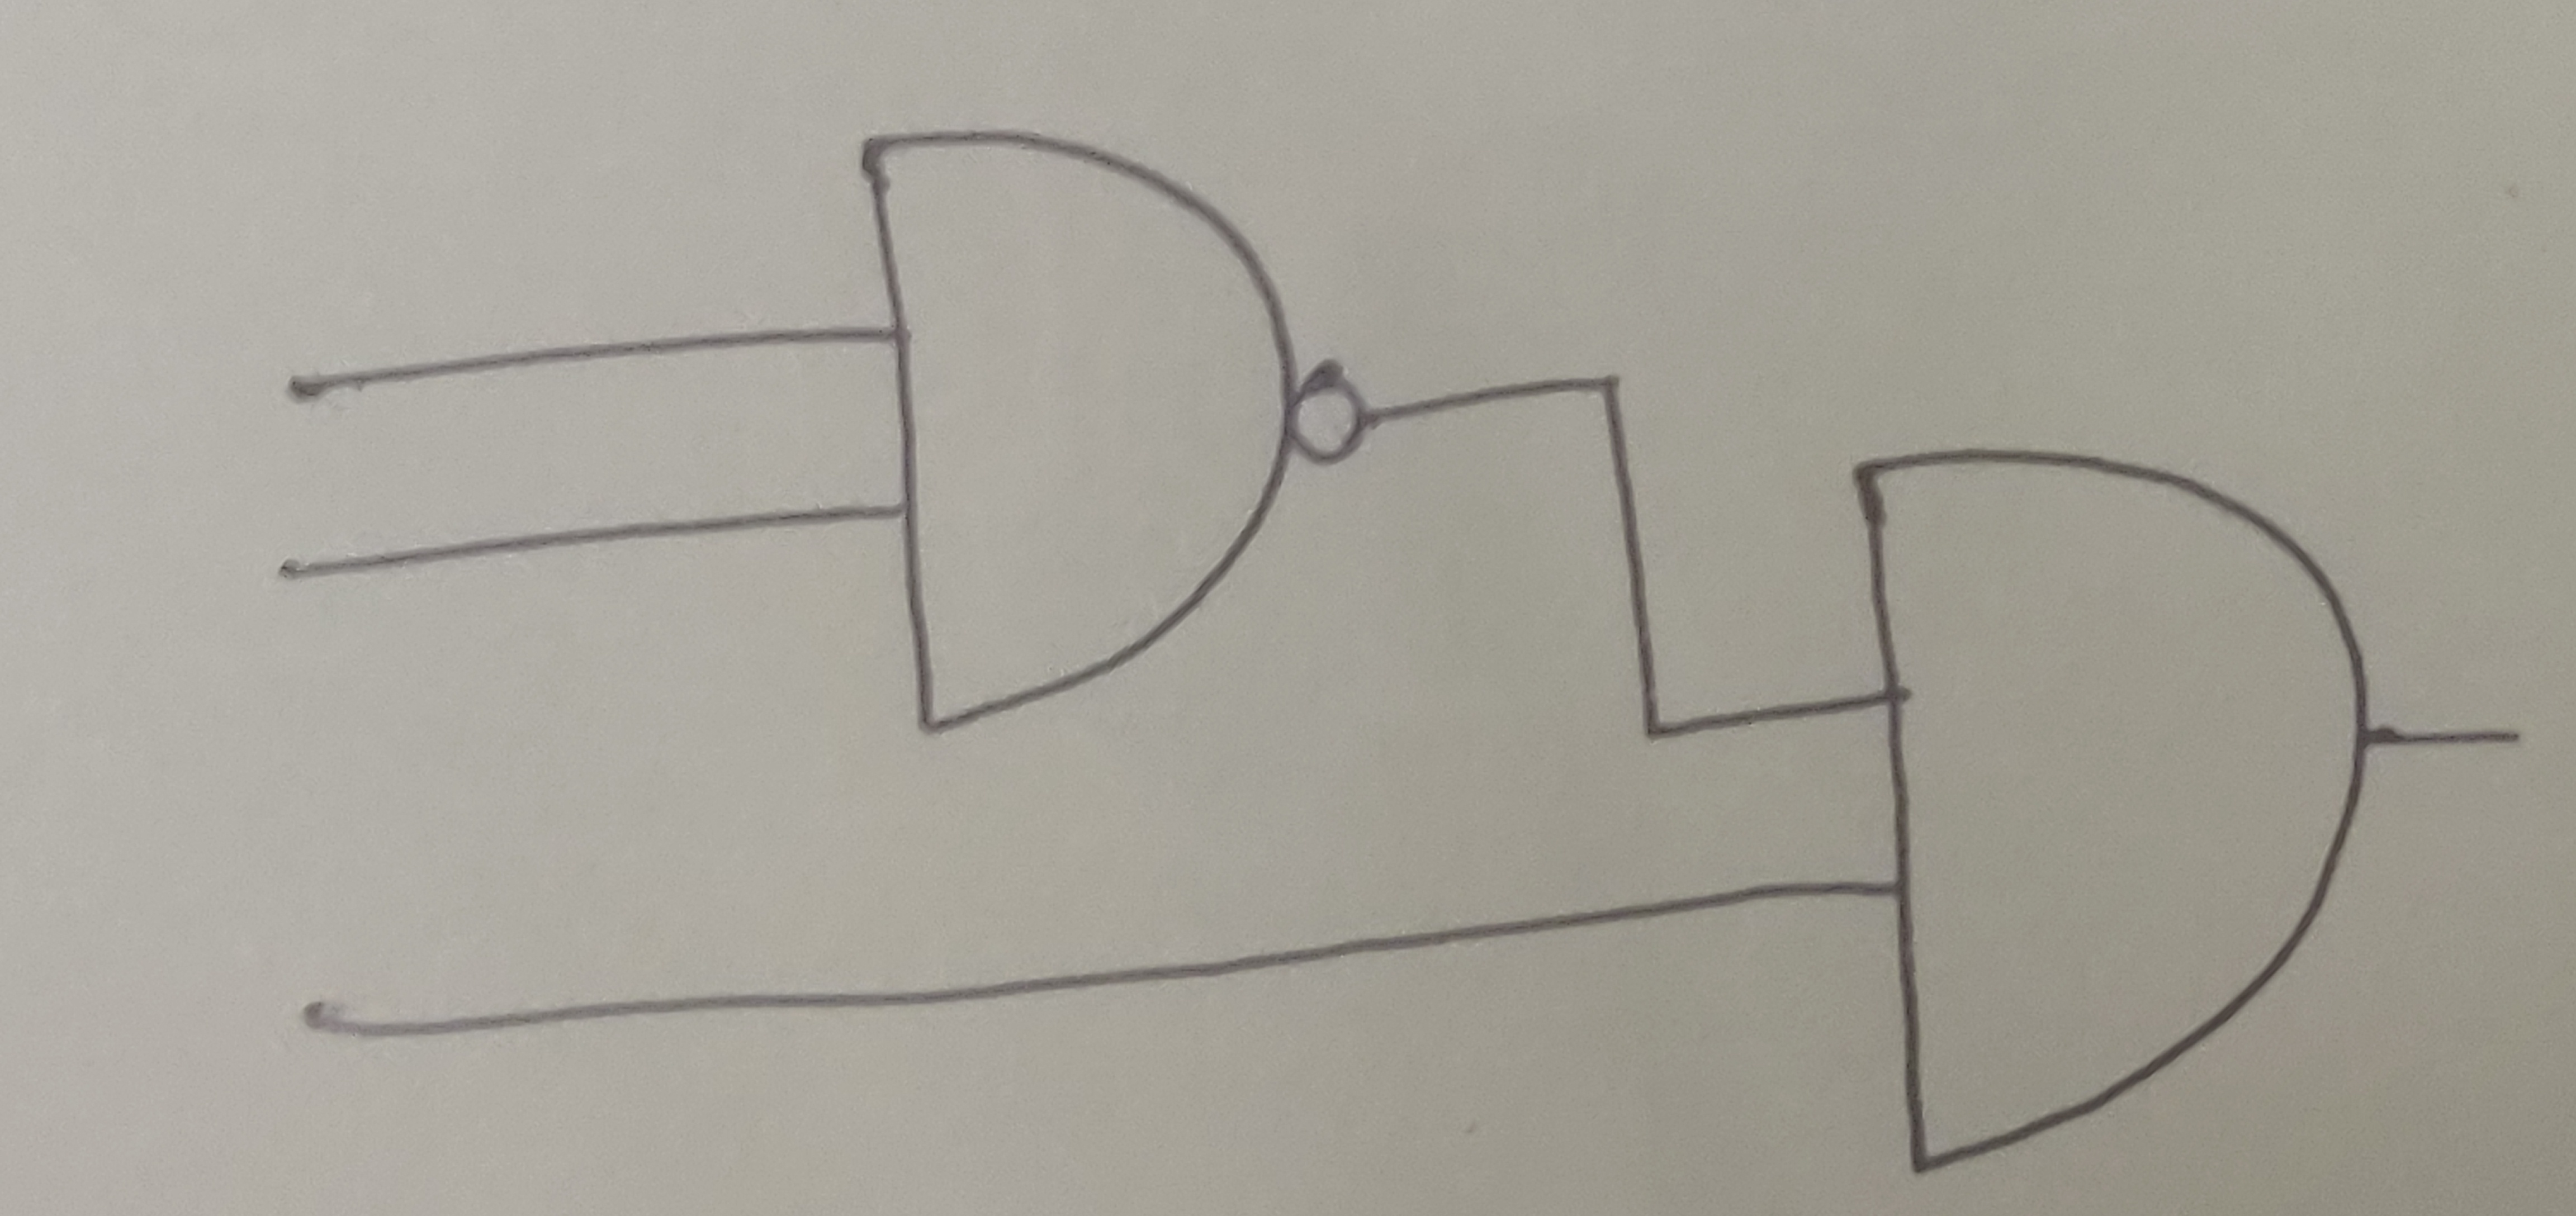and: (1843, 444, 2376, 1177), (854, 125, 1304, 736)
not: (1285, 362, 1373, 470)
